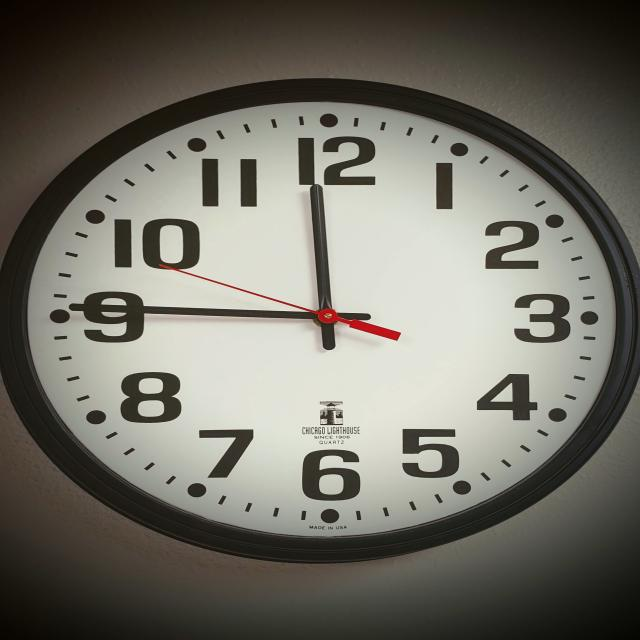clock: (0, 76, 640, 640)
